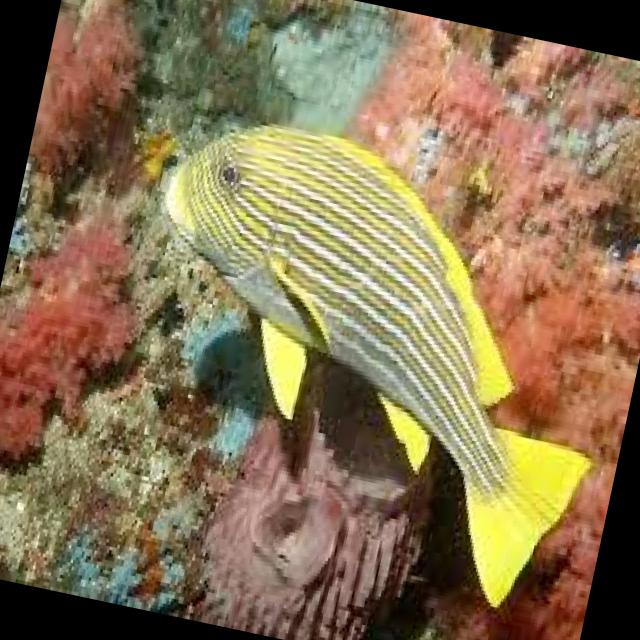RibbonedSweetlips: (93, 100, 640, 623)
